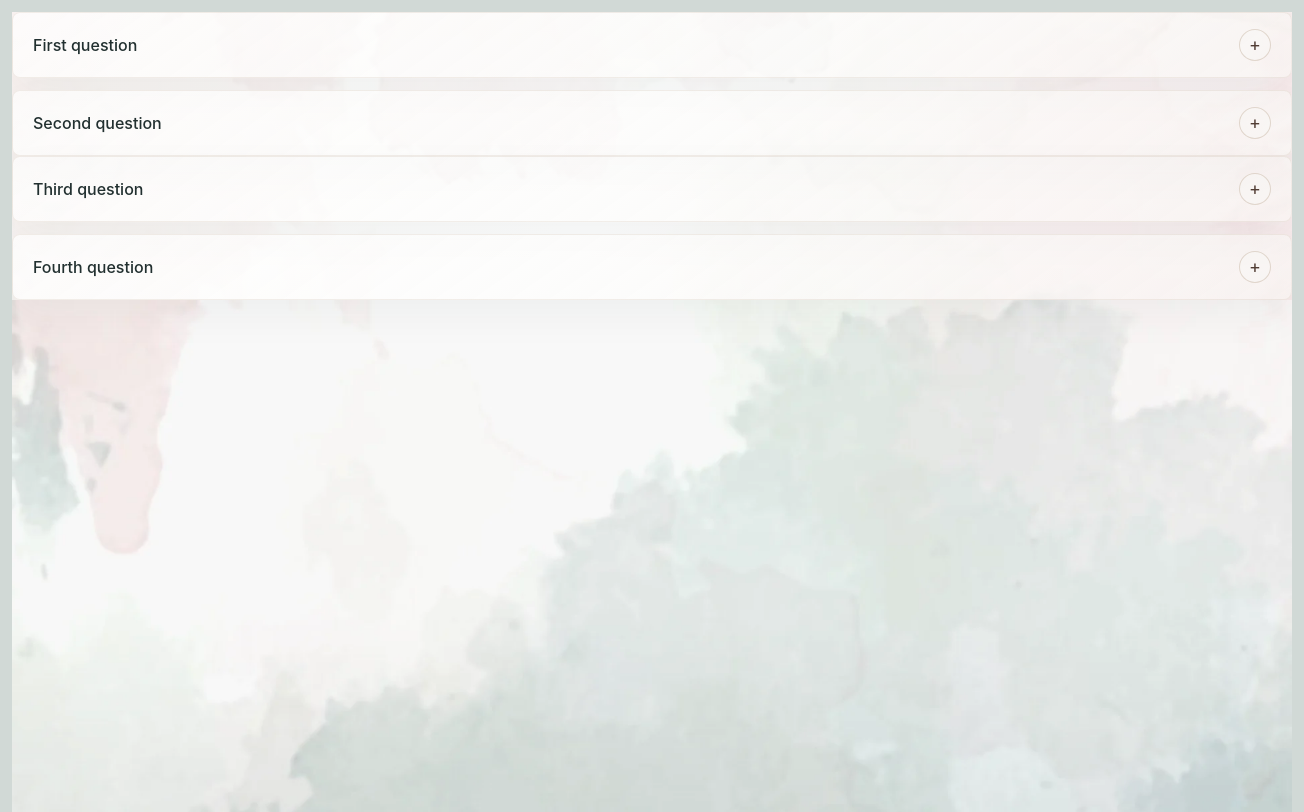
it: FaqAccordion › starts collapsed and keeps one item open per section while sections stay independent
Click the button "First question +".
click(85, 45)  # box [13,13,1291,77]
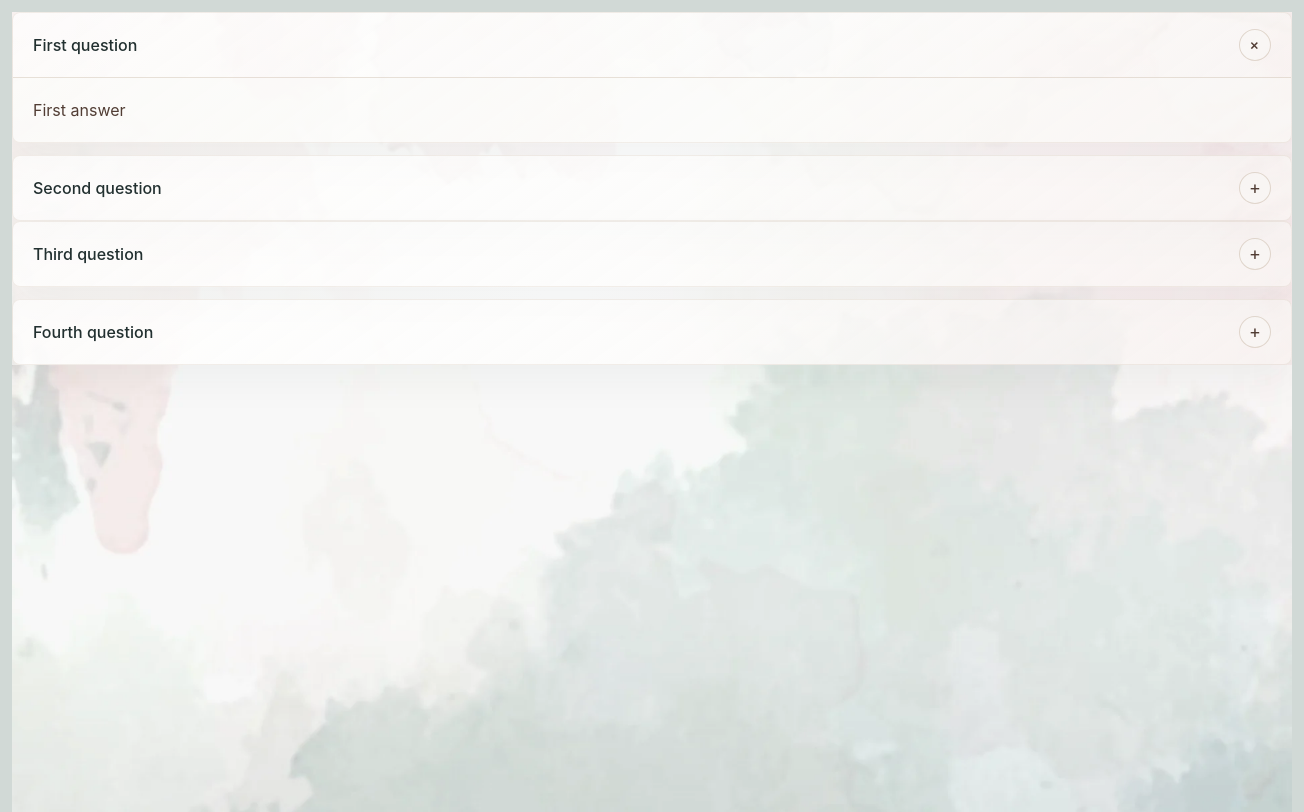
Click the button "Third question +".
click(88, 254)  # box [13,222,1291,286]
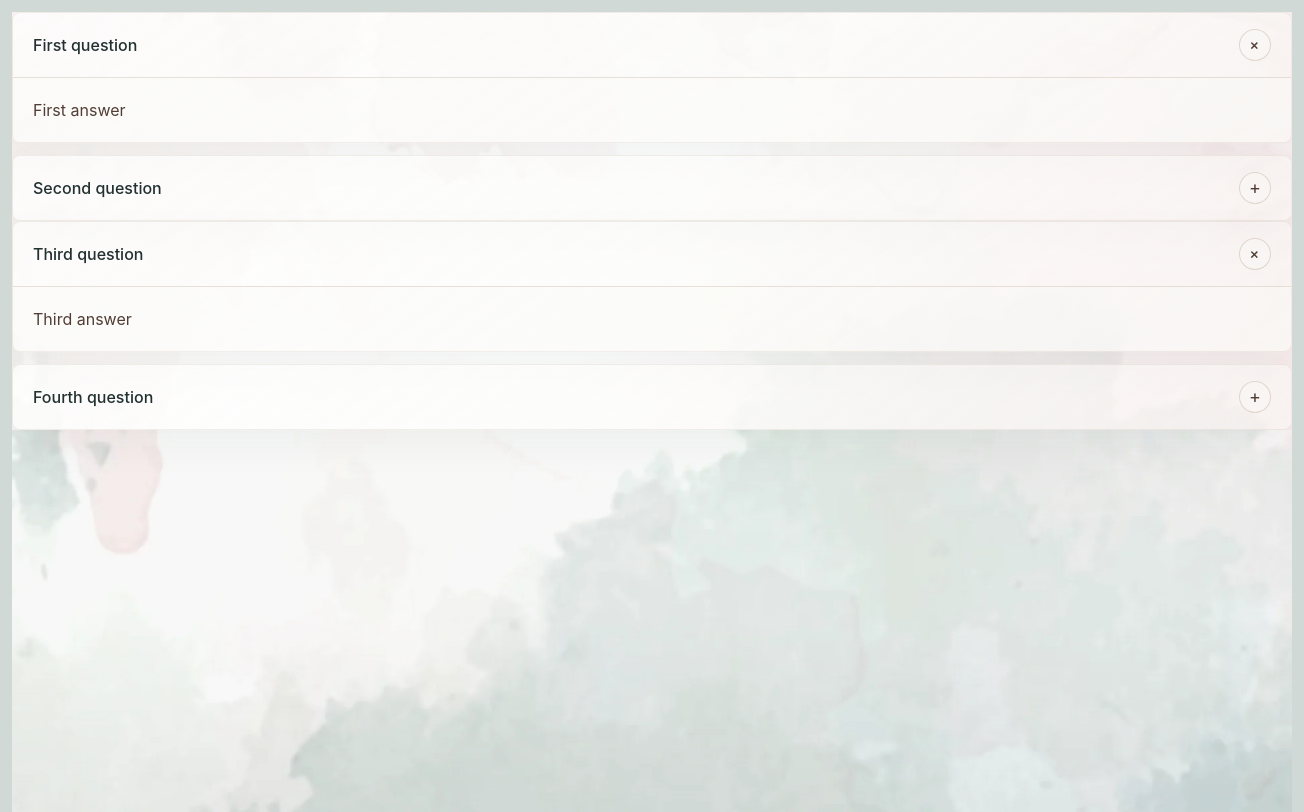
Click the button "Second question +".
click(97, 188)  # box [13,156,1291,220]
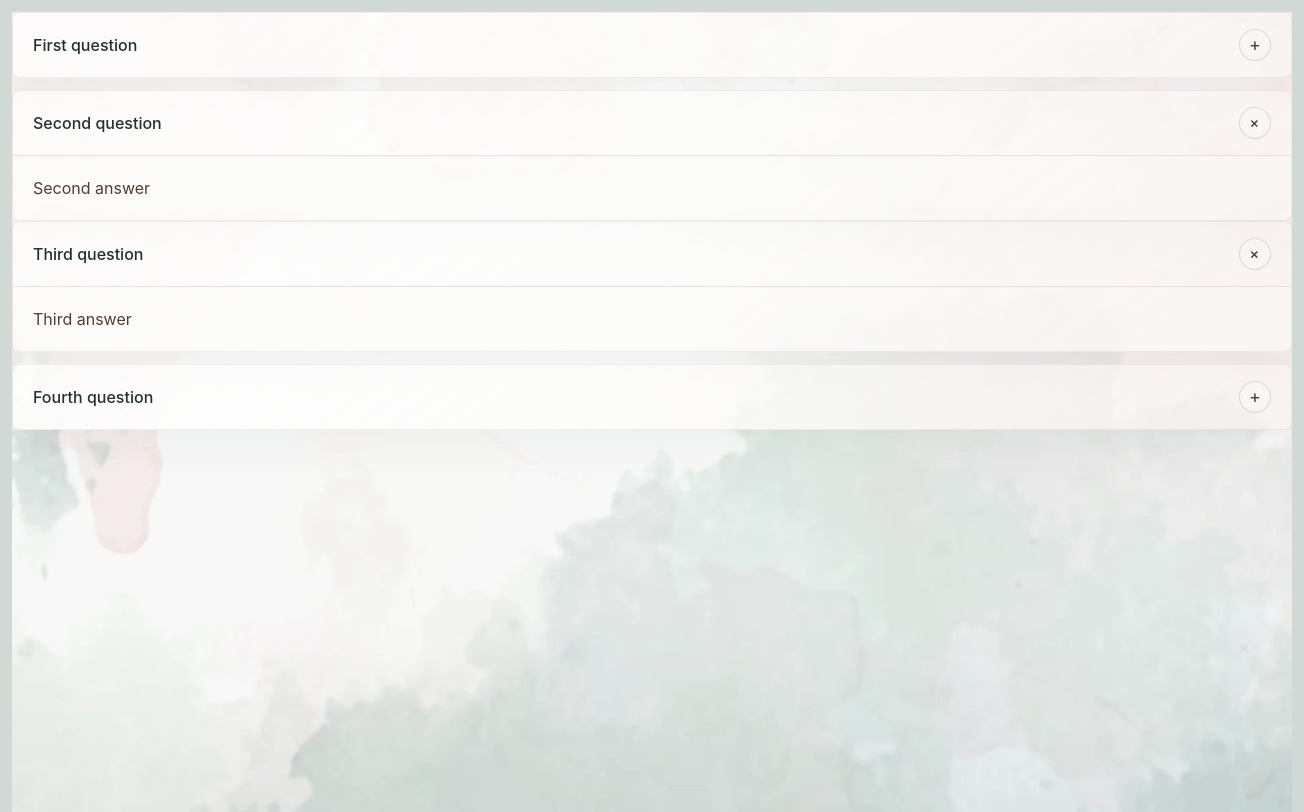
Expected: the button "Third question +" is expanded, [13,222,1291,286]
Expected: the button "First question +" is collapsed, [13,13,1291,77]
Expected: the button "Second question +" is expanded, [13,91,1291,155]
